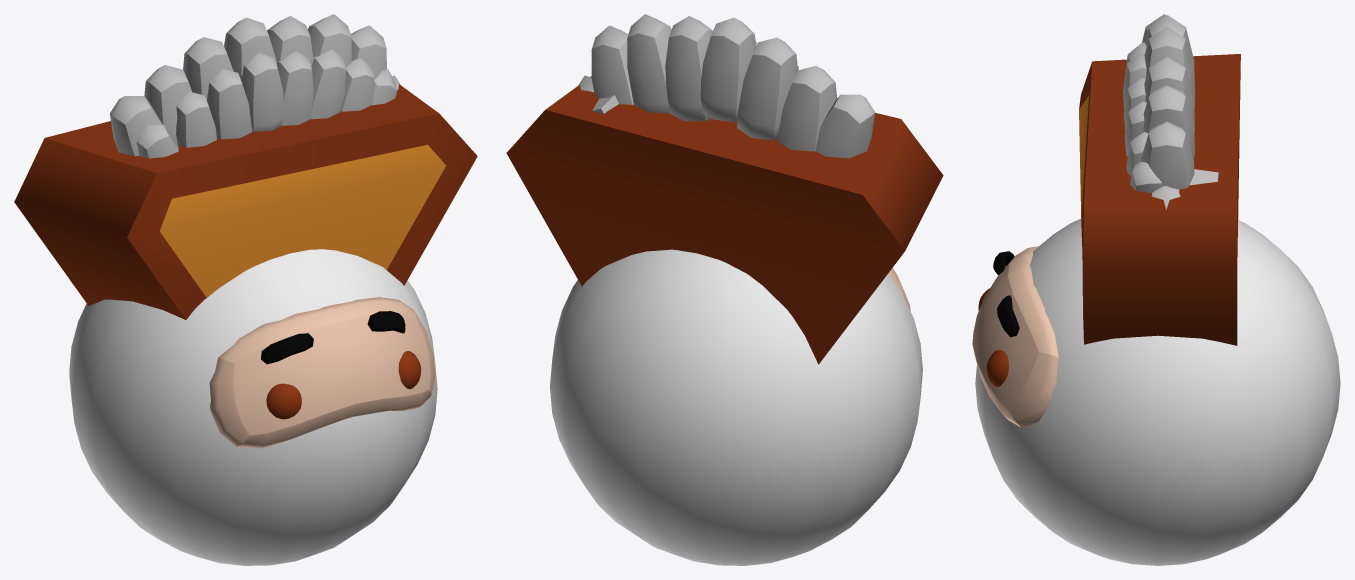
Rendered from bolita7.fbx.
3 renders of one model, left to right at view 1: azimuth 30°, elevation 25°; view 2: azimuth 150°, elevation 25°; view 3: azimuth 270°, elevation 25°, orthographic. The views are drawn at different scales.
Parts seen in each view (by area): view 1: pasted__pSphere16, pasted__pCube13, pasted__pCube14, pasted__pasted__pasted__pasted__pasted__pasted__pasted__a2c., pasted__pasted__pasted__pasted__pasted__pasted__pasted__pCu., pasted__pasted__pasted__pasted__pasted__pasted__pasted__565., pasted__pasted__pasted__pasted__pasted__pasted__pasted__048b, pasted__pasted__pasted__pasted__pasted__pCube13, pasted__pasted__pasted__pasted__pCube8.001, pasted__pasted__pasted__pasted__pasted__pasted__pCube11, pasted__pasted__pasted__pasted__pasted__pasted__pCube8.006, pasted__pasted__pasted__pasted__pasted__pasted__pasted__pCub (+10 smaller); view 2: pasted__pSphere16, pasted__pCube13, pasted__pasted__pasted__pasted__pasted__pasted__pCube11, pasted__pasted__pasted__pasted__pasted__pasted__pasted__pCub, pasted__pasted__pasted__pasted__pasted__pasted__pasted__d67c, pasted__pasted__pasted__pasted__pasted__pasted__pasted__6f63, pasted__pasted__pasted__pasted__pasted__pCube13, pasted__pasted__pasted__pasted__pCube8.001, pasted__pasted__pasted__pasted__pasted__pasted__pasted__3265; view 3: pasted__pSphere16, pasted__pCube13, pasted__pCube14, pasted__pasted__pasted__pasted__pasted__pasted__pasted__3265, pasted__pasted__pasted__pasted__pasted__pasted__pasted__6f63, pasted__pasted__pasted__pasted__pasted__pasted__pasted__pCub, pasted__pasted__pasted__pasted__pasted__pasted__pasted__d67c, pasted__pasted__pasted__pasted__pasted__pasted__pasted__607a, pasted__pasted__pasted__pasted__pasted__pasted__pasted__048b, pasted__pasted__pSphere17, pasted__pasted__pasted__pasted__pasted__pasted__pCube11, pasted__pasted__pasted__pasted__pasted__pasted__pasted__a2c. (+3 smaller).
Boxes of the visible parts, x1=… form: pasted__pSphere16: x1=69, y1=249, x2=437, y2=565; pasted__pCube13: x1=14, y1=84, x2=477, y2=319; pasted__pCube14: x1=209, y1=297, x2=435, y2=448; pasted__pasted__pasted__pasted__pasted__pasted__pasted__a2c.: x1=241, y1=53, x2=283, y2=131; pasted__pasted__pasted__pasted__pasted__pasted__pasted__pCu.: x1=207, y1=69, x2=251, y2=139; pasted__pasted__pasted__pasted__pasted__pasted__pasted__565.: x1=277, y1=51, x2=313, y2=125; pasted__pasted__pasted__pasted__pasted__pasted__pasted__048b: x1=310, y1=49, x2=345, y2=119; pasted__pasted__pasted__pasted__pasted__pCube13: x1=144, y1=65, x2=191, y2=143; pasted__pasted__pasted__pasted__pCube8.001: x1=110, y1=96, x2=162, y2=156; pasted__pasted__pasted__pasted__pasted__pasted__pCube11: x1=183, y1=37, x2=233, y2=100; pasted__pasted__pasted__pasted__pasted__pasted__pCube8.006: x1=176, y1=92, x2=216, y2=147; pasted__pasted__pasted__pasted__pasted__pasted__pasted__pCub: x1=224, y1=17, x2=277, y2=80; pasted__pSphere16: x1=550, y1=249, x2=922, y2=565; pasted__pCube13: x1=506, y1=76, x2=943, y2=364; pasted__pasted__pasted__pasted__pasted__pasted__pCube11: x1=737, y1=37, x2=797, y2=139; pasted__pasted__pasted__pasted__pasted__pasted__pasted__pCub: x1=700, y1=17, x2=756, y2=122; pasted__pasted__pasted__pasted__pasted__pasted__pasted__d67c: x1=665, y1=16, x2=712, y2=121; pasted__pasted__pasted__pasted__pasted__pasted__pasted__6f63: x1=627, y1=14, x2=671, y2=113; pasted__pasted__pasted__pasted__pasted__pCube13: x1=777, y1=65, x2=837, y2=151; pasted__pasted__pasted__pasted__pCube8.001: x1=815, y1=94, x2=875, y2=158; pasted__pasted__pasted__pasted__pasted__pasted__pasted__3265: x1=591, y1=25, x2=633, y2=104; pasted__pSphere16: x1=975, y1=219, x2=1340, y2=565; pasted__pCube13: x1=1079, y1=54, x2=1240, y2=345; pasted__pCube14: x1=972, y1=246, x2=1058, y2=427; pasted__pasted__pasted__pasted__pasted__pasted__pasted__3265: x1=1140, y1=121, x2=1194, y2=189; pasted__pasted__pasted__pasted__pasted__pasted__pasted__6f63: x1=1143, y1=85, x2=1194, y2=159; pasted__pasted__pasted__pasted__pasted__pasted__pasted__pCub: x1=1144, y1=27, x2=1194, y2=112; pasted__pasted__pasted__pasted__pasted__pasted__pasted__d67c: x1=1144, y1=57, x2=1194, y2=136; pasted__pasted__pasted__pasted__pasted__pasted__pasted__607a: x1=1130, y1=161, x2=1162, y2=192; pasted__pasted__pasted__pasted__pasted__pasted__pasted__048b: x1=1124, y1=101, x2=1146, y2=156; pasted__pasted__pSphere17: x1=986, y1=350, x2=1008, y2=386; pasted__pasted__pasted__pasted__pasted__pasted__pCube11: x1=1145, y1=15, x2=1195, y2=97; pasted__pasted__pasted__pasted__pasted__pasted__pasted__a2c.: x1=1123, y1=52, x2=1146, y2=108.
Size of the model in its own units: 244 by 316 by 202.
